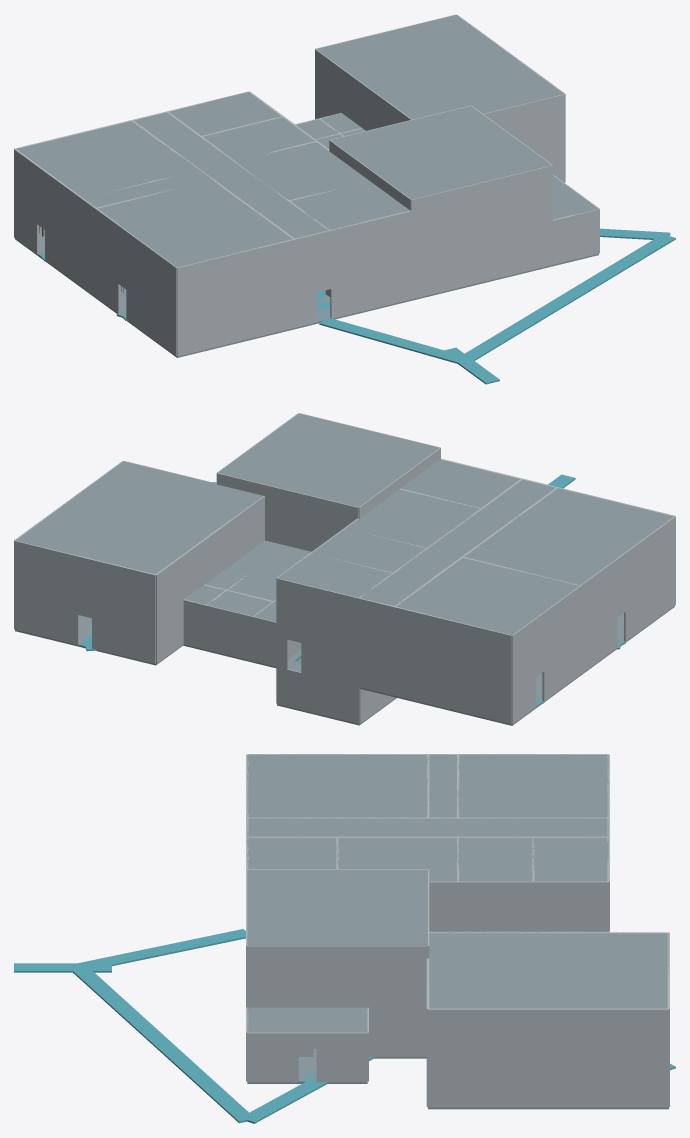
The model's file is furnished.glb.
3 views of the same model, one above another, from view 1: azimuth 30°, elevation 25°; view 2: azimuth 150°, elevation 25°; view 3: azimuth 270°, elevation 25° (orthographic). The views are drawn at different scales.
Parts seen in each view (by area): view 1: Ceiling cap gym, Ceiling cap assembly, Ceiling cap library, Wall assembly S, Ceiling cap class-b, Ceiling cap upper-corridor, Wall library S, Wall class-a-store S, Ceiling cap upper-stair, Wall dining S, Wall library W, Wall upper-lobby S (+28 smaller); view 2: Ceiling cap gym, Ceiling cap assembly, Ceiling cap library, Ceiling cap class-b, Wall gym N.001, Wall gym N, Ceiling cap upper-corridor, Wall class-b N, Wall science N, Wall assembly N, Ceiling cap upper-stair, Wall wash-a N (+33 smaller); view 3: Wall gym E, Ceiling cap gym, Ceiling cap assembly, Ceiling cap library, Wall assembly E, Ceiling cap class-b, Ceiling cap upper-corridor, Ceiling cap upper-stair, Wall wash-a E, Wall wash-b E, Ceiling cap wash-a, L41 support 1 (+13 smaller).
Part boxes in pixels (x1=…): Ceiling cap gym: x1=316, y1=15, x2=563, y2=119; Ceiling cap assembly: x1=331, y1=106, x2=551, y2=199; Ceiling cap library: x1=97, y1=180, x2=292, y2=267; Wall assembly S: x1=411, y1=165, x2=552, y2=254; Ceiling cap class-b: x1=16, y1=121, x2=199, y2=198; Ceiling cap upper-corridor: x1=133, y1=112, x2=328, y2=238; Wall library S: x1=177, y1=239, x2=294, y2=312; Wall class-a-store S: x1=177, y1=284, x2=294, y2=356; Ceiling cap upper-stair: x1=235, y1=142, x2=369, y2=200; Wall dining S: x1=412, y1=232, x2=505, y2=299; Wall library W: x1=95, y1=208, x2=177, y2=311; Wall upper-lobby S: x1=329, y1=210, x2=411, y2=274; Ceiling cap gym: x1=15, y1=461, x2=263, y2=574; Ceiling cap assembly: x1=218, y1=413, x2=439, y2=507; Ceiling cap library: x1=477, y1=488, x2=674, y2=575; Ceiling cap class-b: x1=396, y1=558, x2=579, y2=635; Wall gym N.001: x1=14, y1=540, x2=78, y2=644; Wall gym N: x1=92, y1=559, x2=155, y2=663; Ceiling cap upper-corridor: x1=360, y1=479, x2=555, y2=606; Wall class-b N: x1=394, y1=606, x2=512, y2=679; Wall science N: x1=394, y1=651, x2=512, y2=724; Wall assembly N: x1=217, y1=473, x2=358, y2=551; Ceiling cap upper-stair: x1=345, y1=489, x2=480, y2=547; Wall wash-a N: x1=276, y1=578, x2=358, y2=642; Wall gym E: x1=428, y1=1008, x2=668, y2=1107; Ceiling cap gym: x1=428, y1=932, x2=668, y2=1008; Ceiling cap assembly: x1=247, y1=869, x2=427, y2=945; Ceiling cap library: x1=247, y1=754, x2=427, y2=817; Wall assembly E: x1=247, y1=946, x2=427, y2=1007; Ceiling cap class-b: x1=458, y1=754, x2=608, y2=817; Ceiling cap upper-corridor: x1=247, y1=818, x2=608, y2=836; Ceiling cap upper-stair: x1=337, y1=837, x2=457, y2=881; Wall wash-a E: x1=533, y1=881, x2=608, y2=931; Wall wash-b E: x1=458, y1=881, x2=533, y2=931; Ceiling cap wash-a: x1=533, y1=837, x2=608, y2=881; L41 support 1: x1=73, y1=965, x2=254, y2=1123.
Size of the model in its own units: 42.61 by 11.26 by 43.97.
20 materials, 16 textured.
